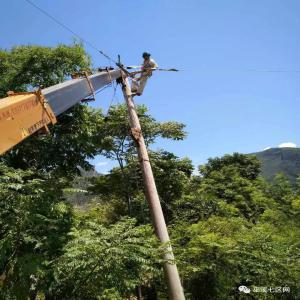blue: (142, 51, 152, 61)
